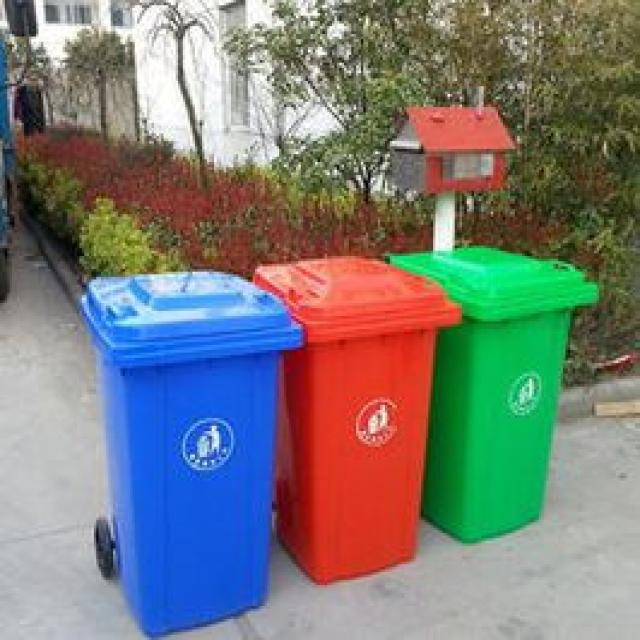garbage_bin: (77, 269, 301, 637), (250, 253, 460, 582), (385, 243, 597, 541)
